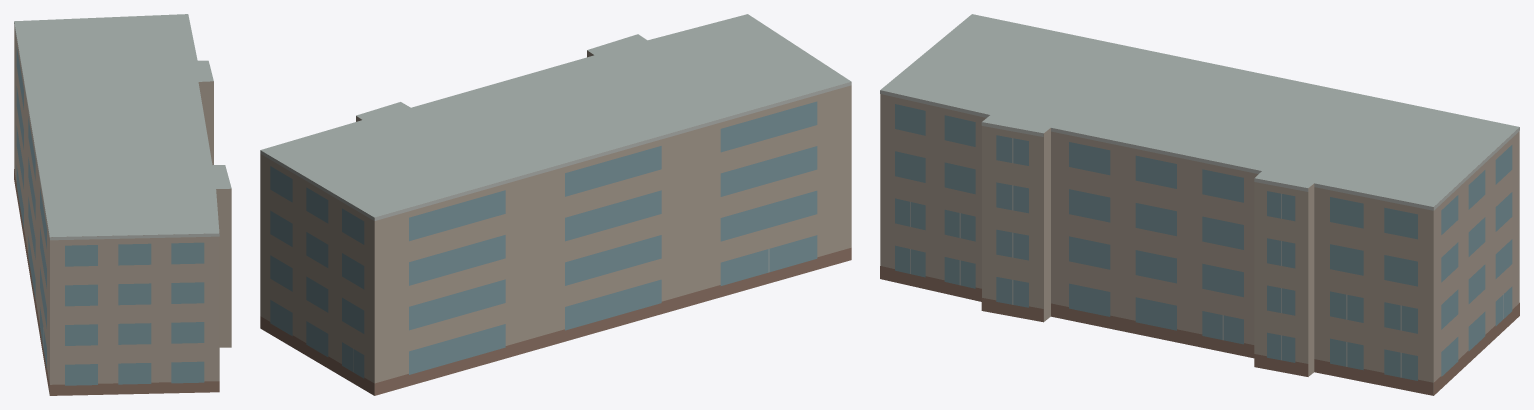
The model's file is survey-upis-32890158.glb.
3 views of the same model, side by side, from view 1: azimuth 30°, elevation 25°; view 2: azimuth 150°, elevation 25°; view 3: azimuth 270°, elevation 25° (orthographic). The views are drawn at different scales.
Parts seen in each view (by area): view 1: survey-upis-32890158.tmp; view 2: survey-upis-32890158.tmp; view 3: survey-upis-32890158.tmp.
Boxes of the visible parts, x1=… form: survey-upis-32890158.tmp: x1=14, y1=14, x2=231, y2=395; survey-upis-32890158.tmp: x1=260, y1=14, x2=851, y2=395; survey-upis-32890158.tmp: x1=880, y1=14, x2=1519, y2=395.
Size of the model in its own units: 26.75 by 12.2 by 37.46.
